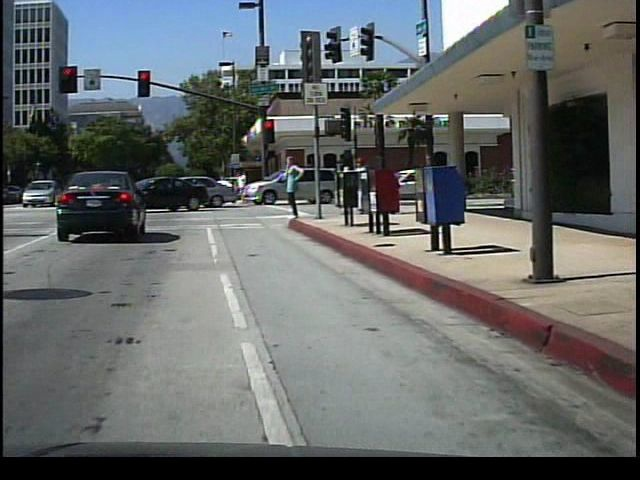person: (281, 151, 309, 221), (354, 152, 375, 215), (337, 152, 358, 214)
